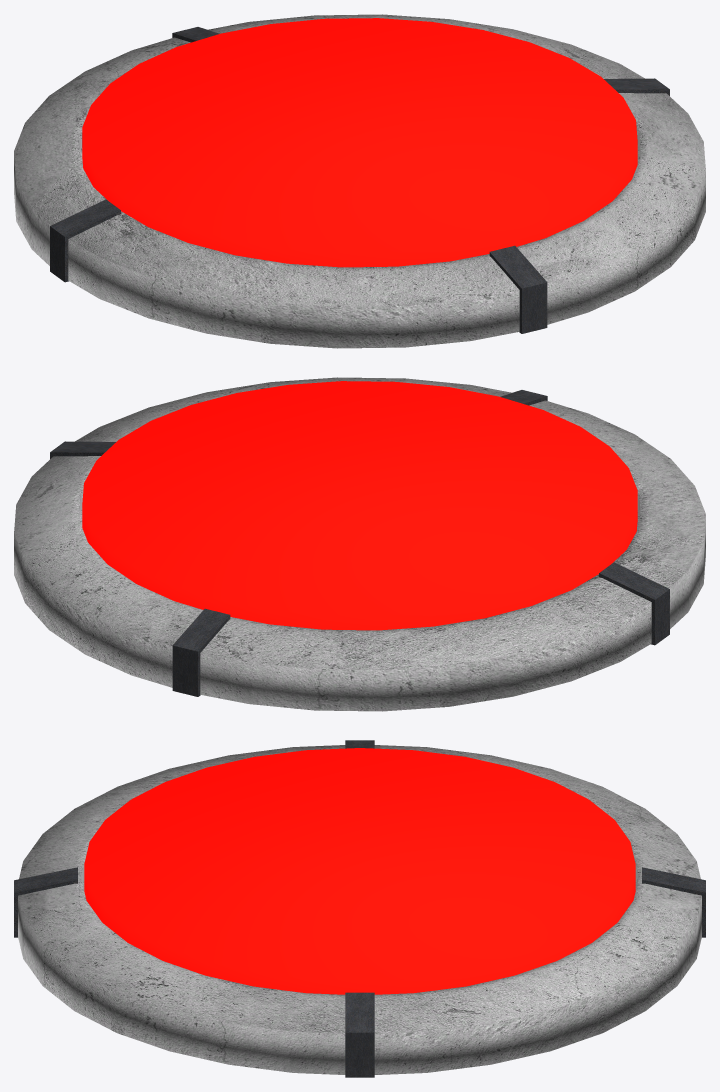
Rendered from prop_floor_button.glb.
3 views of the same model, one above another, from view 1: azimuth 30°, elevation 25°; view 2: azimuth 150°, elevation 25°; view 3: azimuth 270°, elevation 25° (orthographic).
Parts seen in each view (by area): view 1: Cap, Base1, Base2; view 2: Cap, Base1, Base2; view 3: Cap, Base1, Base2.
Part boxes in pixels (<box>): Cap: <box>82,18,637,267</box>; Base1: <box>14,14,705,348</box>; Base2: <box>50,27,669,333</box>; Cap: <box>82,381,637,630</box>; Base1: <box>14,377,705,711</box>; Base2: <box>50,390,669,696</box>; Cap: <box>84,748,635,994</box>; Base1: <box>18,745,701,1074</box>; Base2: <box>14,740,705,1077</box>.
Size of the model in its own units: 1.25 by 0.1341 by 1.25.
Materials: 3 (2 with a texture image).
